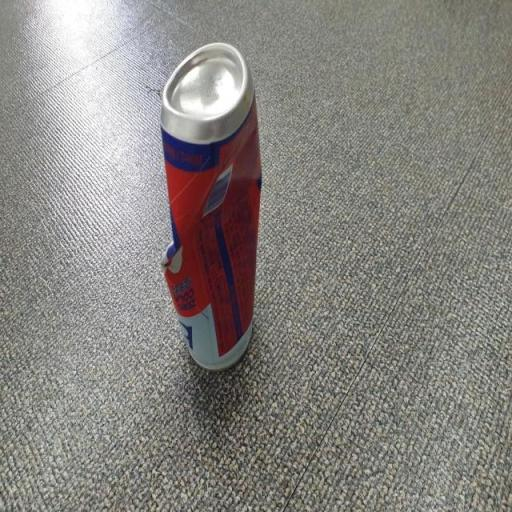metal: (126, 0, 325, 410)
